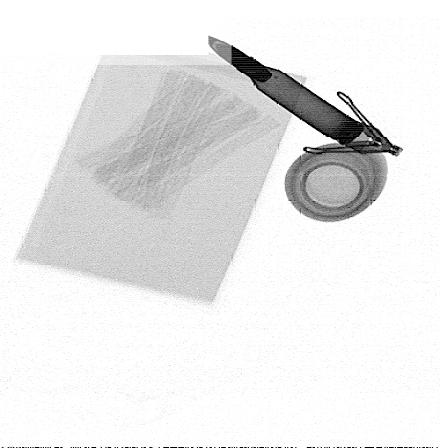Bullet: (208, 36, 365, 147)
